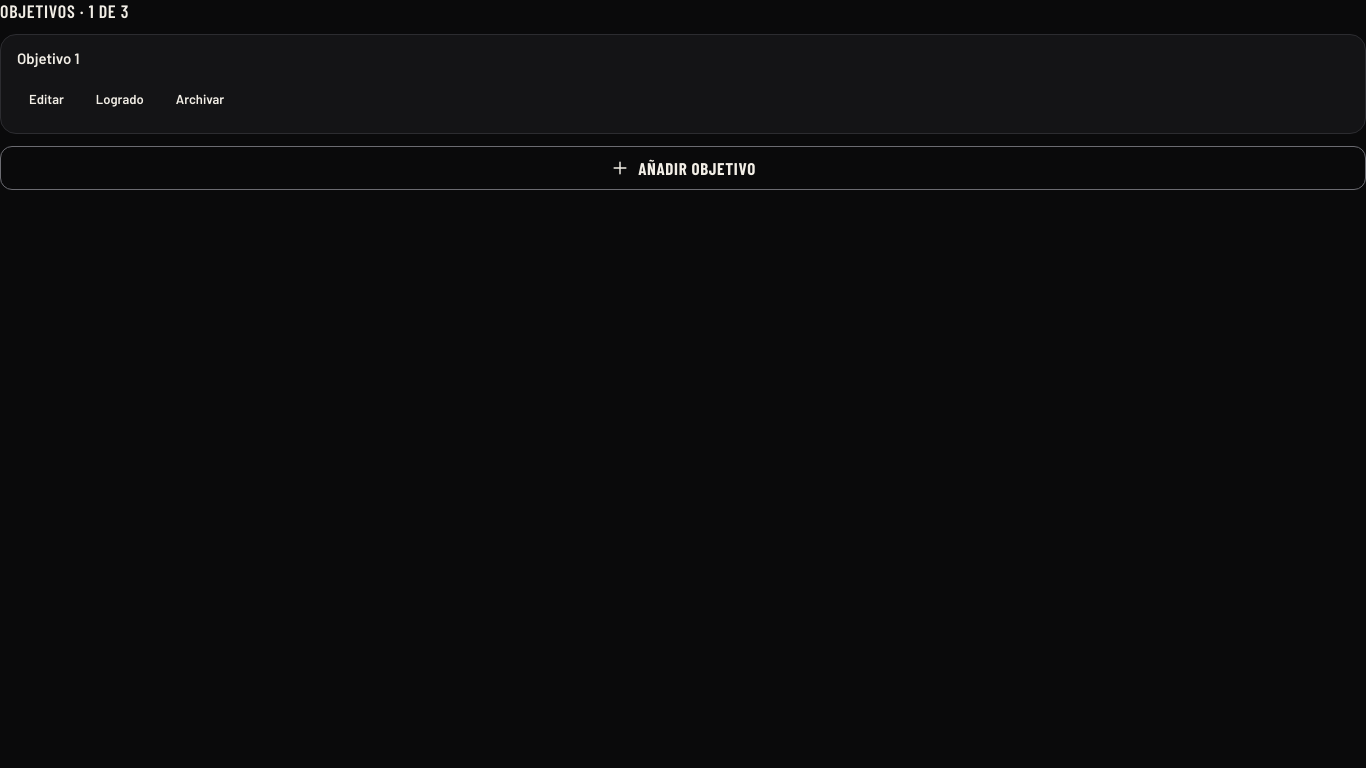
Scenario: PlayerGoals › cerrar la hoja con algo escrito pregunta antes de descartar
The image size is (1366, 768).
Click the button "Añadir objetivo" at (683, 168), box [0,146,1365,190]
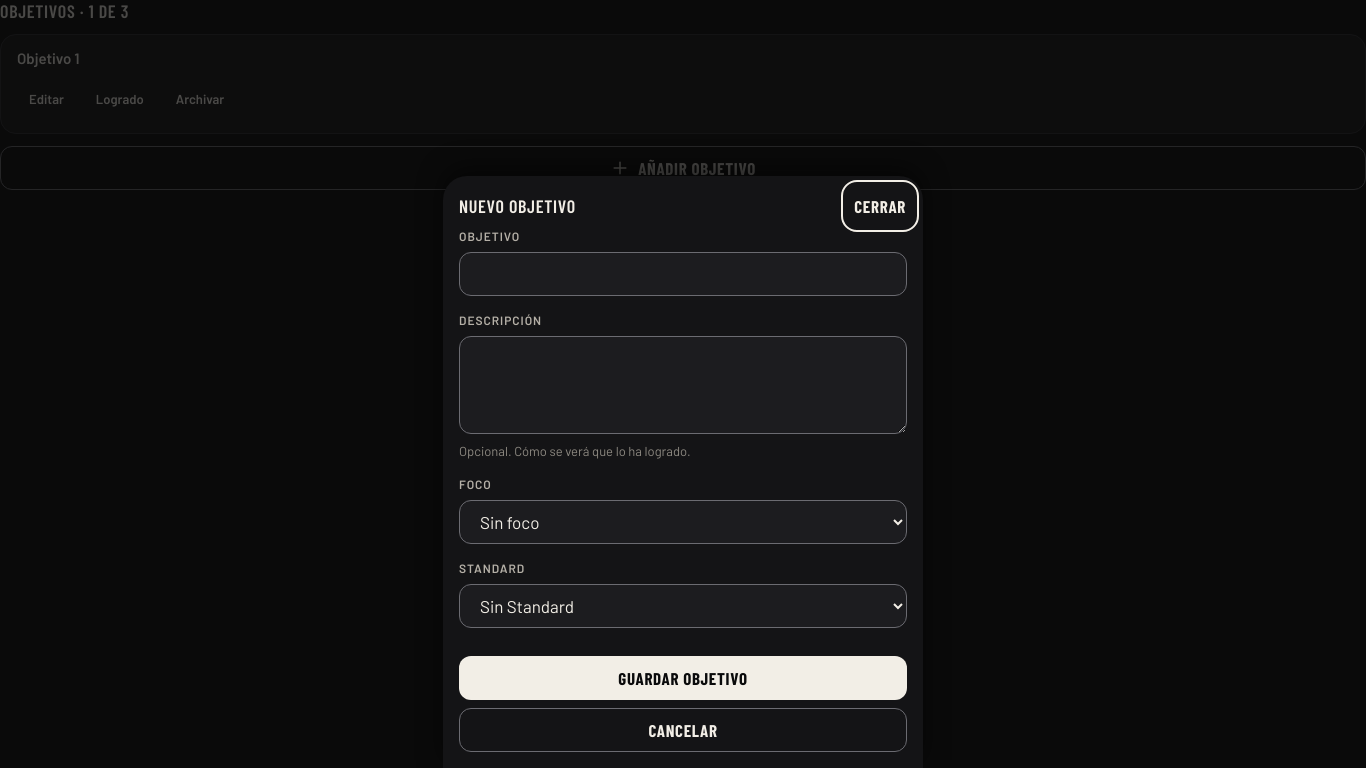
Type "A medias" into the field labelled "Objetivo" at (683, 274), box [459,252,907,296]
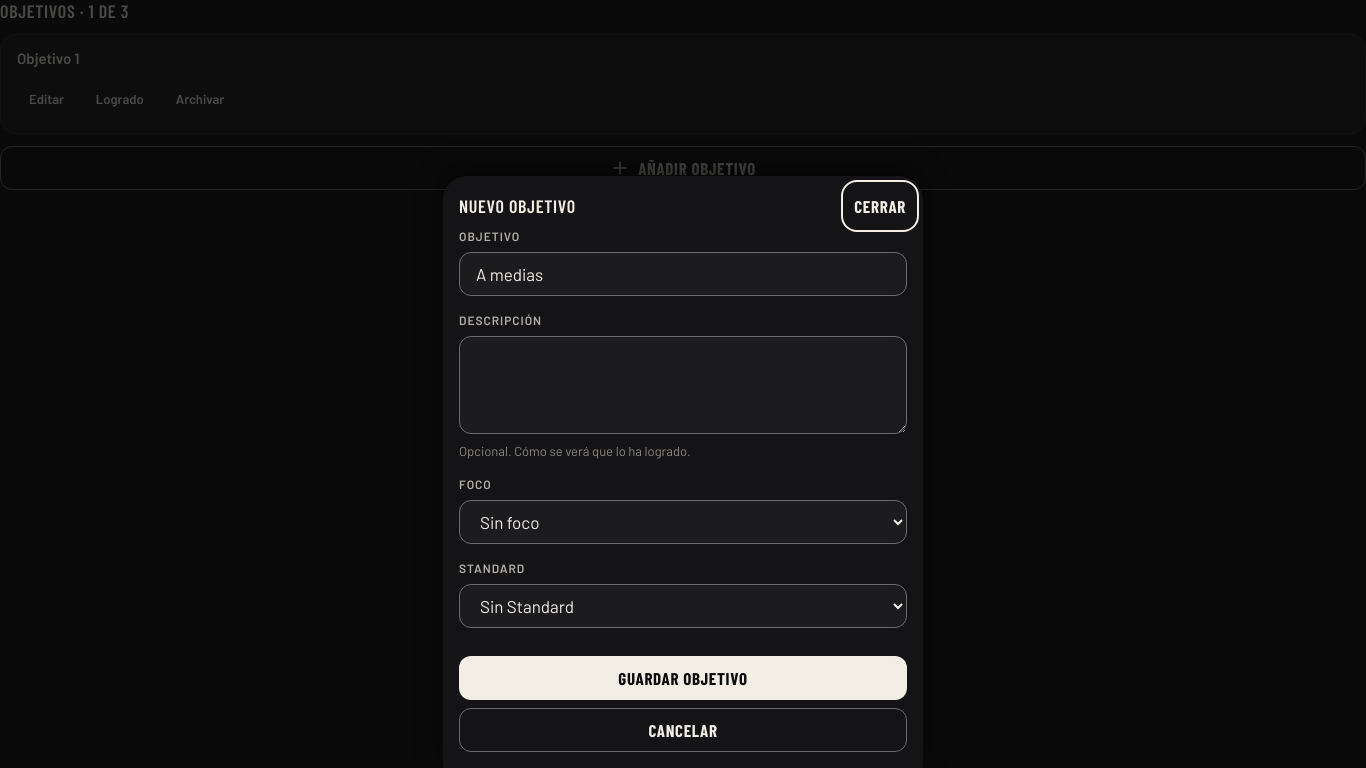
Click the button "Cancelar" at (683, 730), box [459,708,907,752]
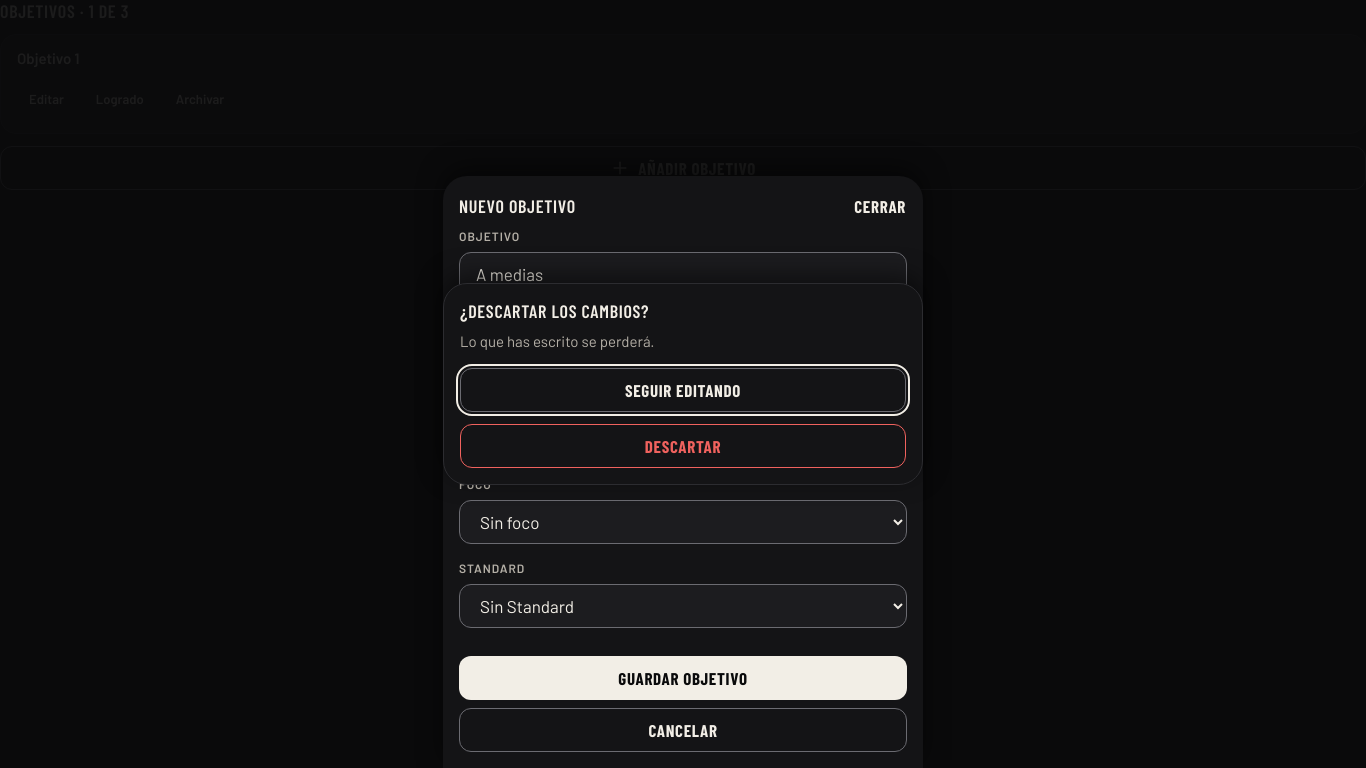
Expected: the dialog "¿Descartar los cambios?" is shown, [443,283,923,485]
